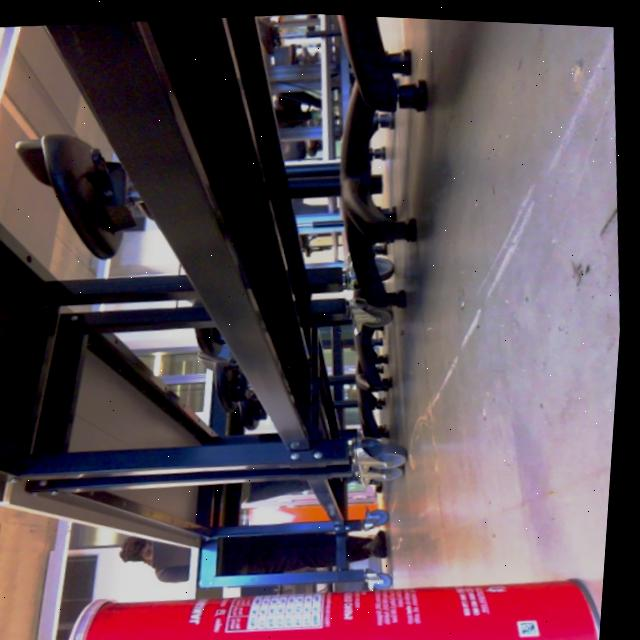redpringles: (52, 538, 612, 640)
